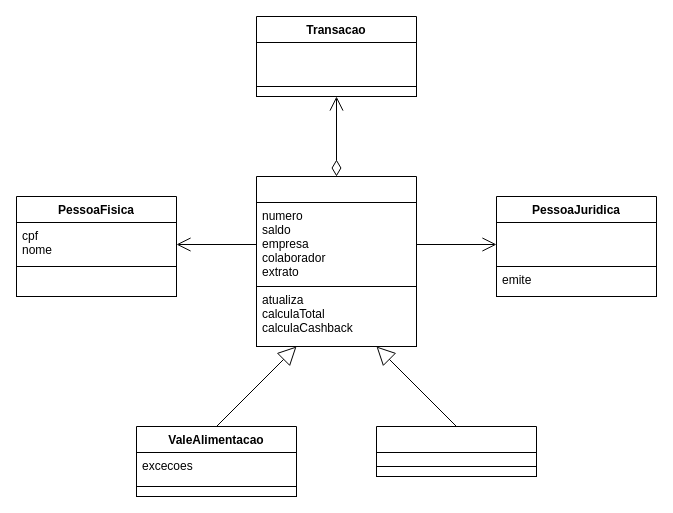
This 673x513 diagram has some shape labels left out. Each missing label, with the box of its shape:
bloqueia: (16, 266, 176, 296)
cnpj nome: (496, 222, 656, 266)
descricao valor: (256, 42, 416, 86)
Vale: (256, 176, 416, 346)
ValeRefeicao: (376, 426, 536, 476)
